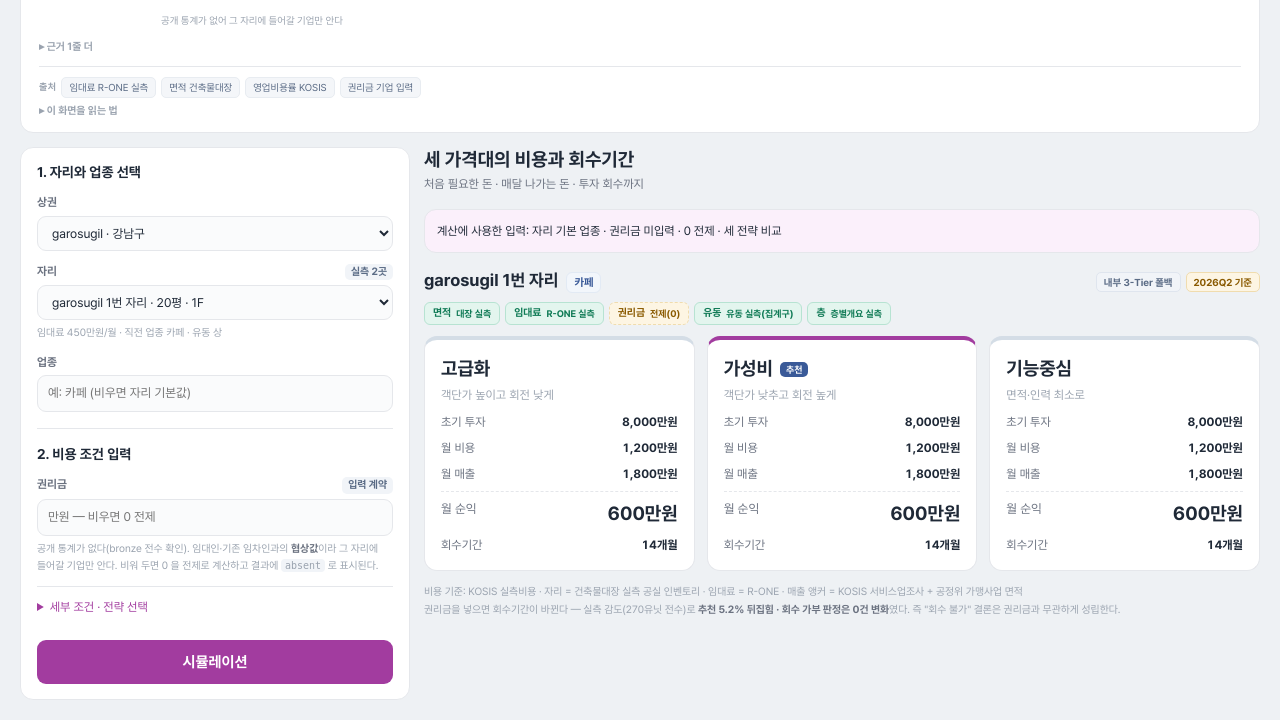
Test: Posting — 입력과 결과의 대응 › 동일 자리의 권리금 수정 전후 서버 결과만 비교한다
(page scrolled)
Expected: the text "전제(0)" is shown, 650,307 -> 680,320
Type "200" into the field with placeholder "만원 — 비우면 0 전제" at (215, 517), box 37,499 -> 393,536
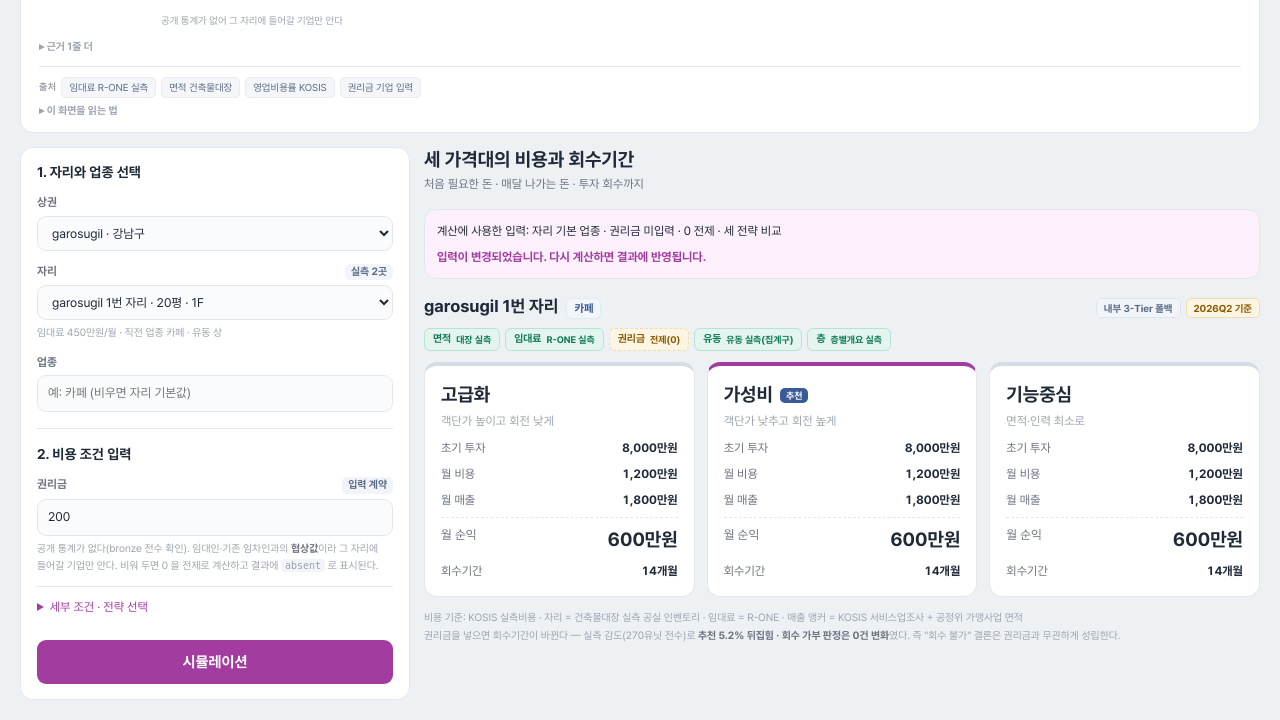
Result: the text "입력이 변경되었습니다. 다시 계산하면 결과에 반영됩니다." is shown at 437,250 -> 706,264
Click the button "시뮬레이션" at (215, 662), box 37,640 -> 393,684
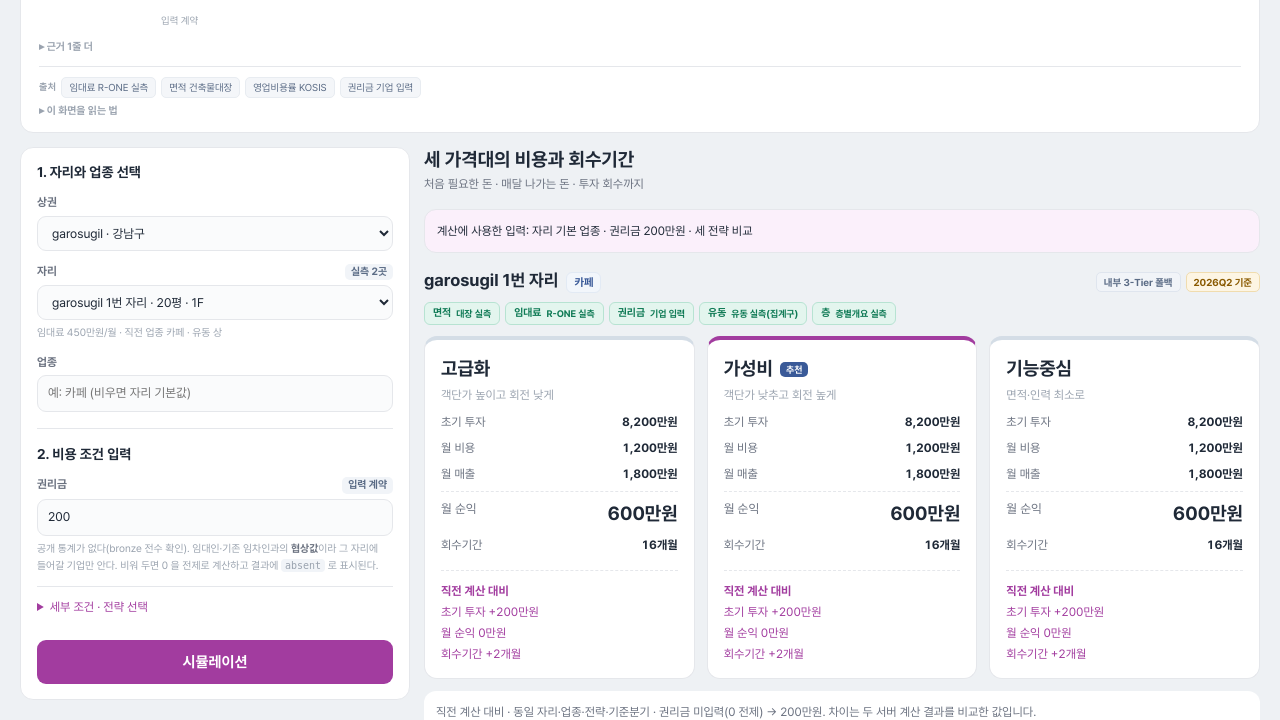
Result: the text "기업 입력" is shown at 650,307 -> 685,320
Result: the text "초기 투자 +200만원" is shown 3 times at 441,605 -> 539,619; 724,605 -> 822,619; 1006,605 -> 1104,619
Result: the text "회수기간 +2개월" is shown 3 times at 441,646 -> 521,660; 724,646 -> 804,660; 1006,646 -> 1086,660
Type "제과점" into the field with placeholder "예: 카페 (비우면 자리 기본값)" at (215, 393), box 37,375 -> 393,412
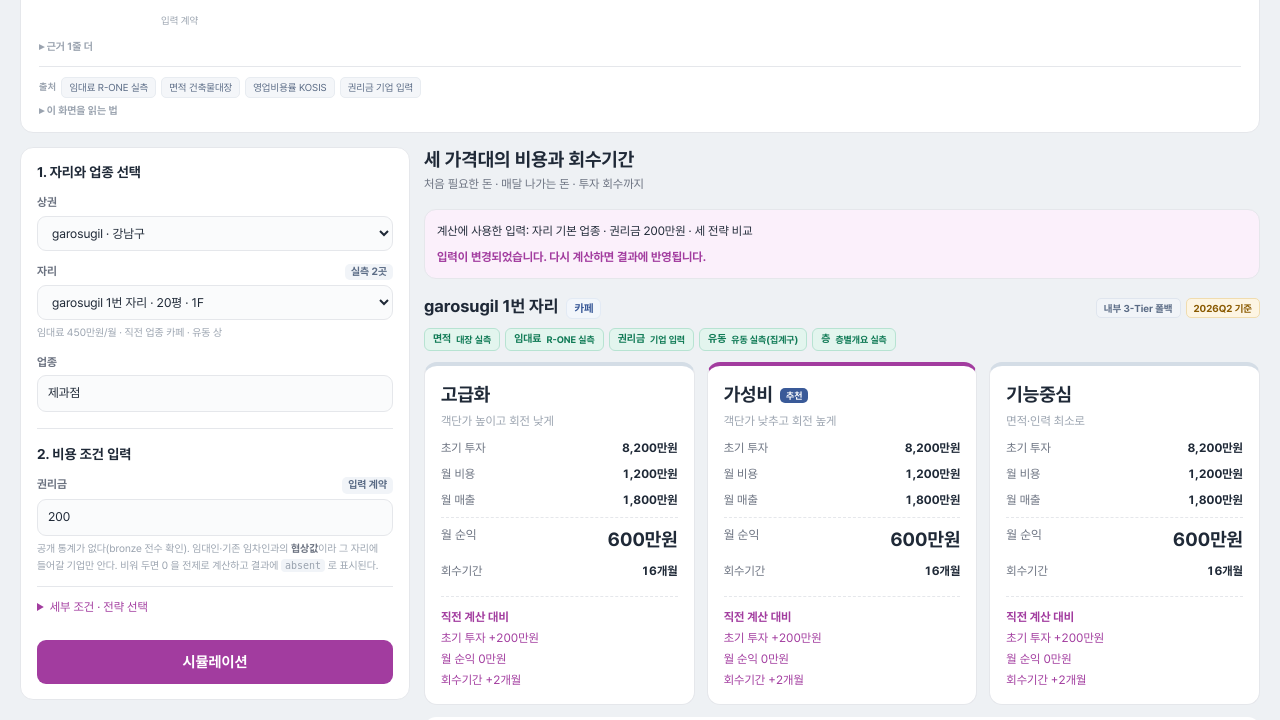
Click the button "시뮬레이션" at (215, 662), box 37,640 -> 393,684
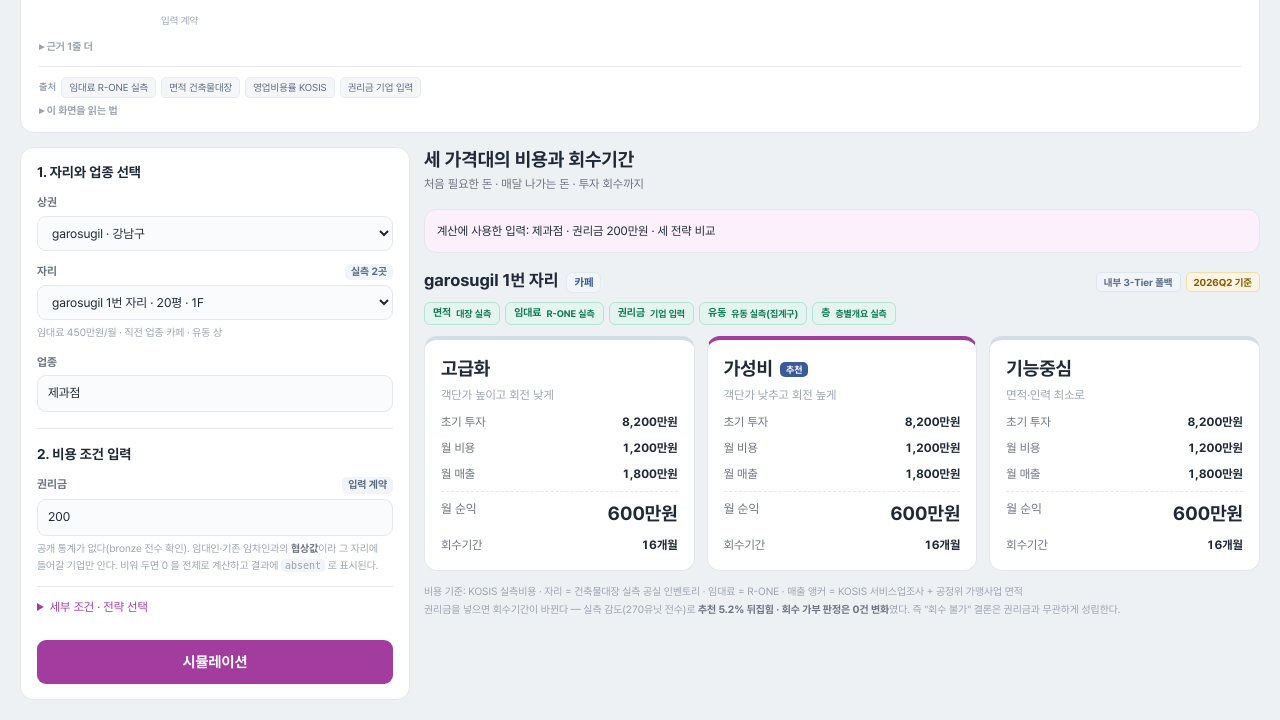
Result: the text "초기 투자 +200만원" is gone
